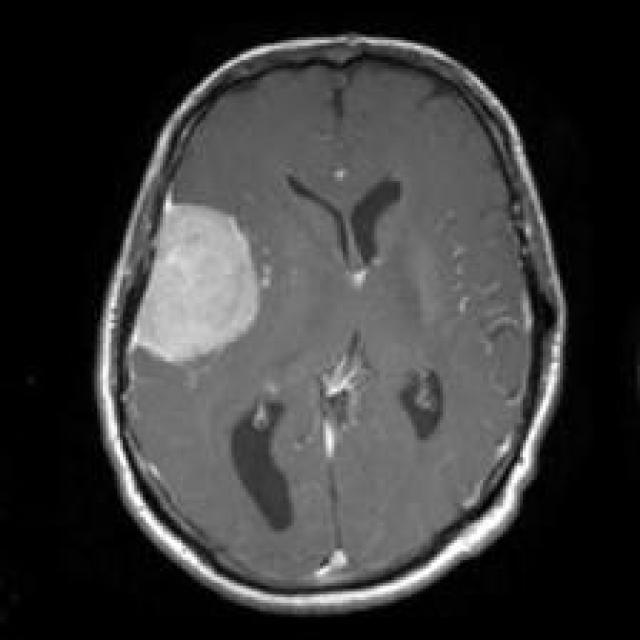meningioma_tumor: (124, 182, 280, 374)
